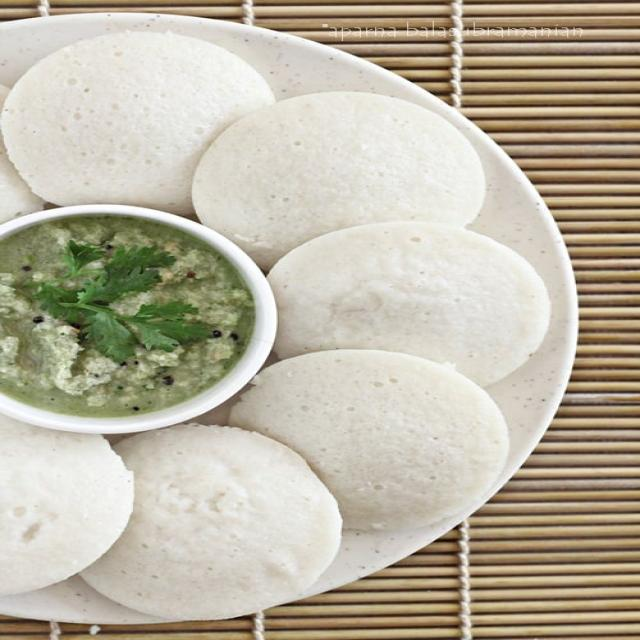IDLI: (0, 30, 289, 224), (195, 91, 490, 269), (70, 425, 345, 612), (235, 352, 509, 534), (270, 226, 555, 388), (2, 418, 128, 602)
